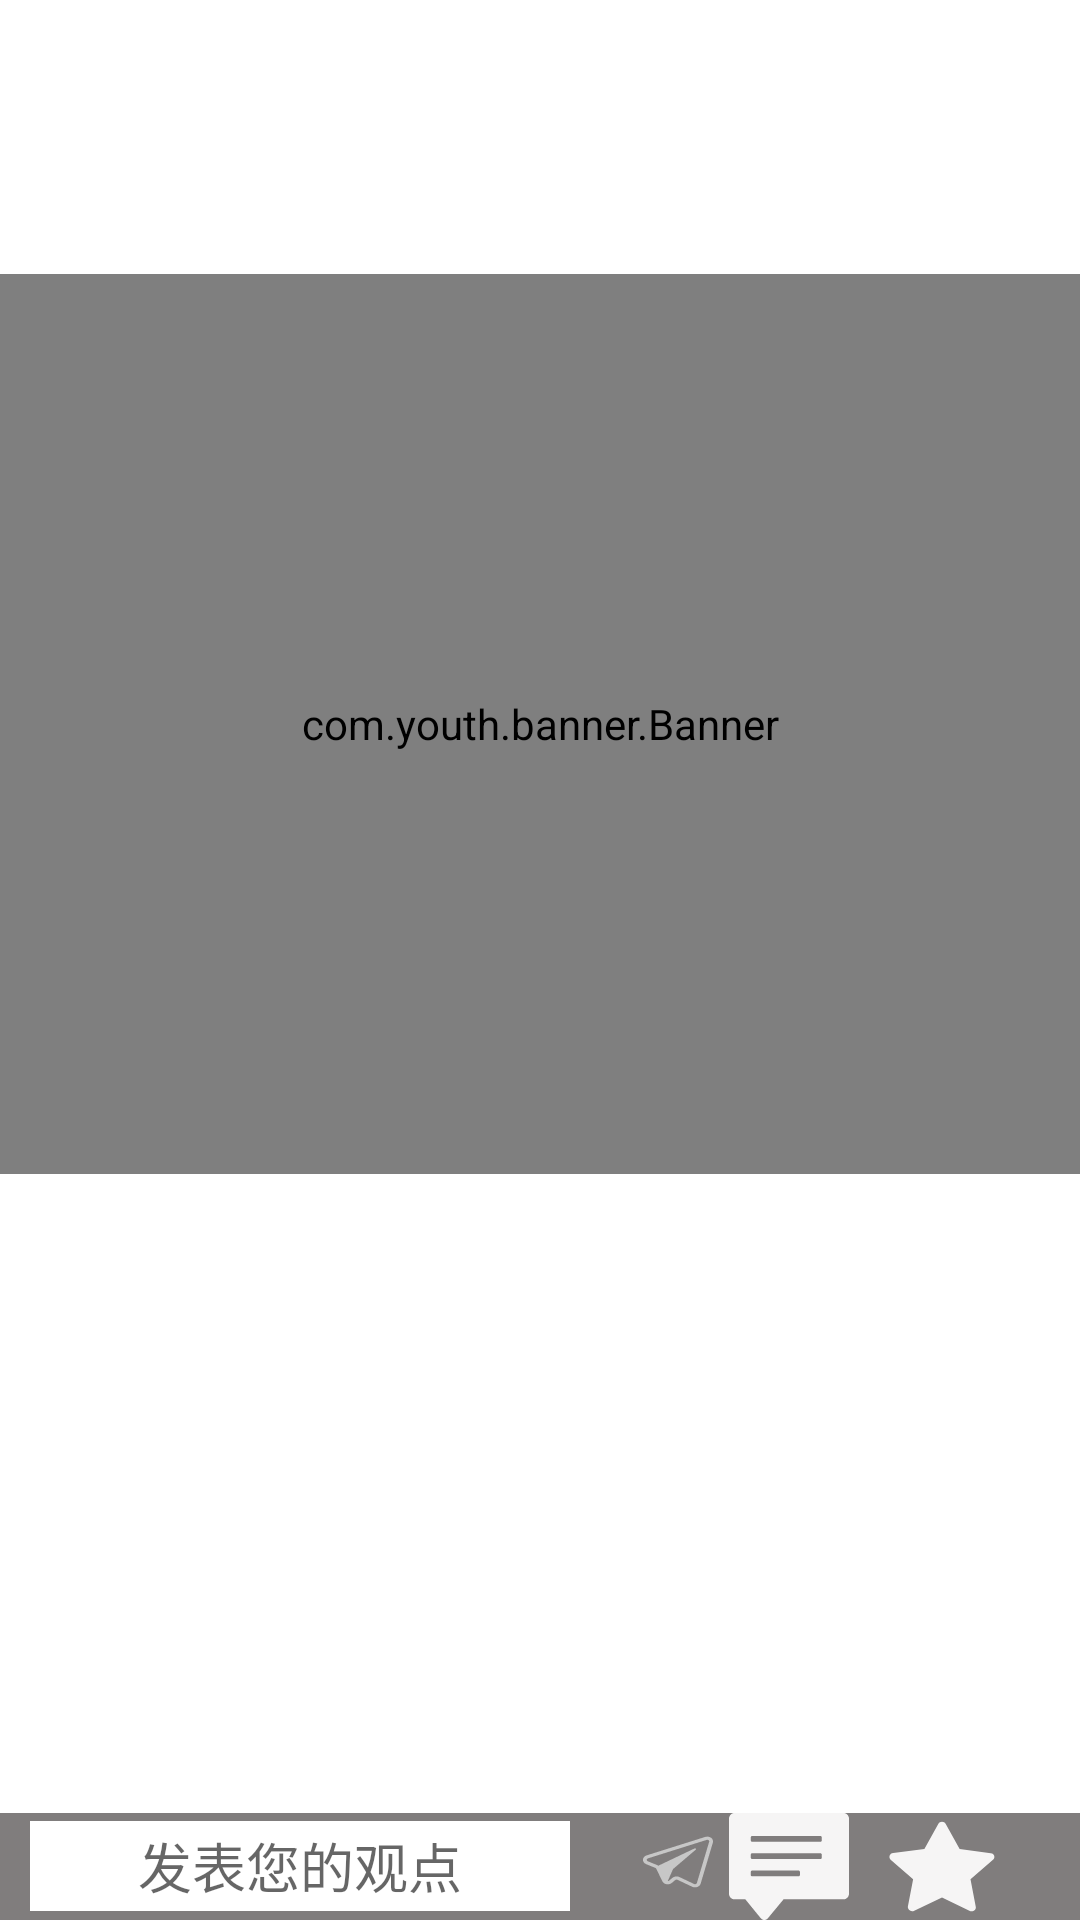

Icon click points for this 1080x1920 phone screenshot, format point (x, y):
collect: point (942, 1867)
comment: point (789, 1866)
comment send: point (678, 1861)
